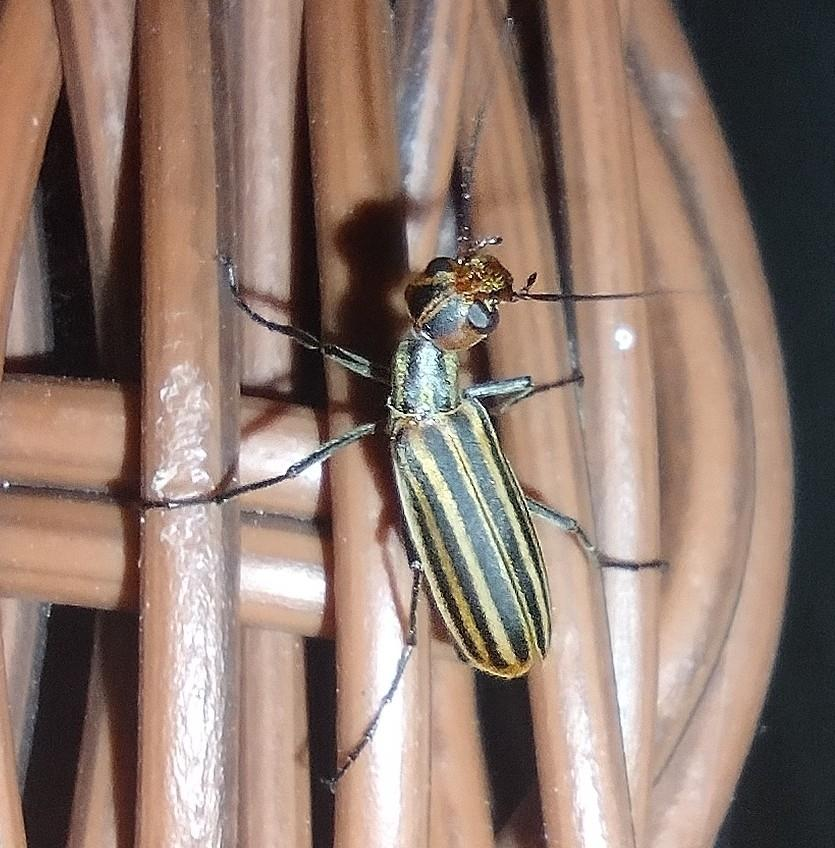blister_beetle: (89, 0, 811, 848)
